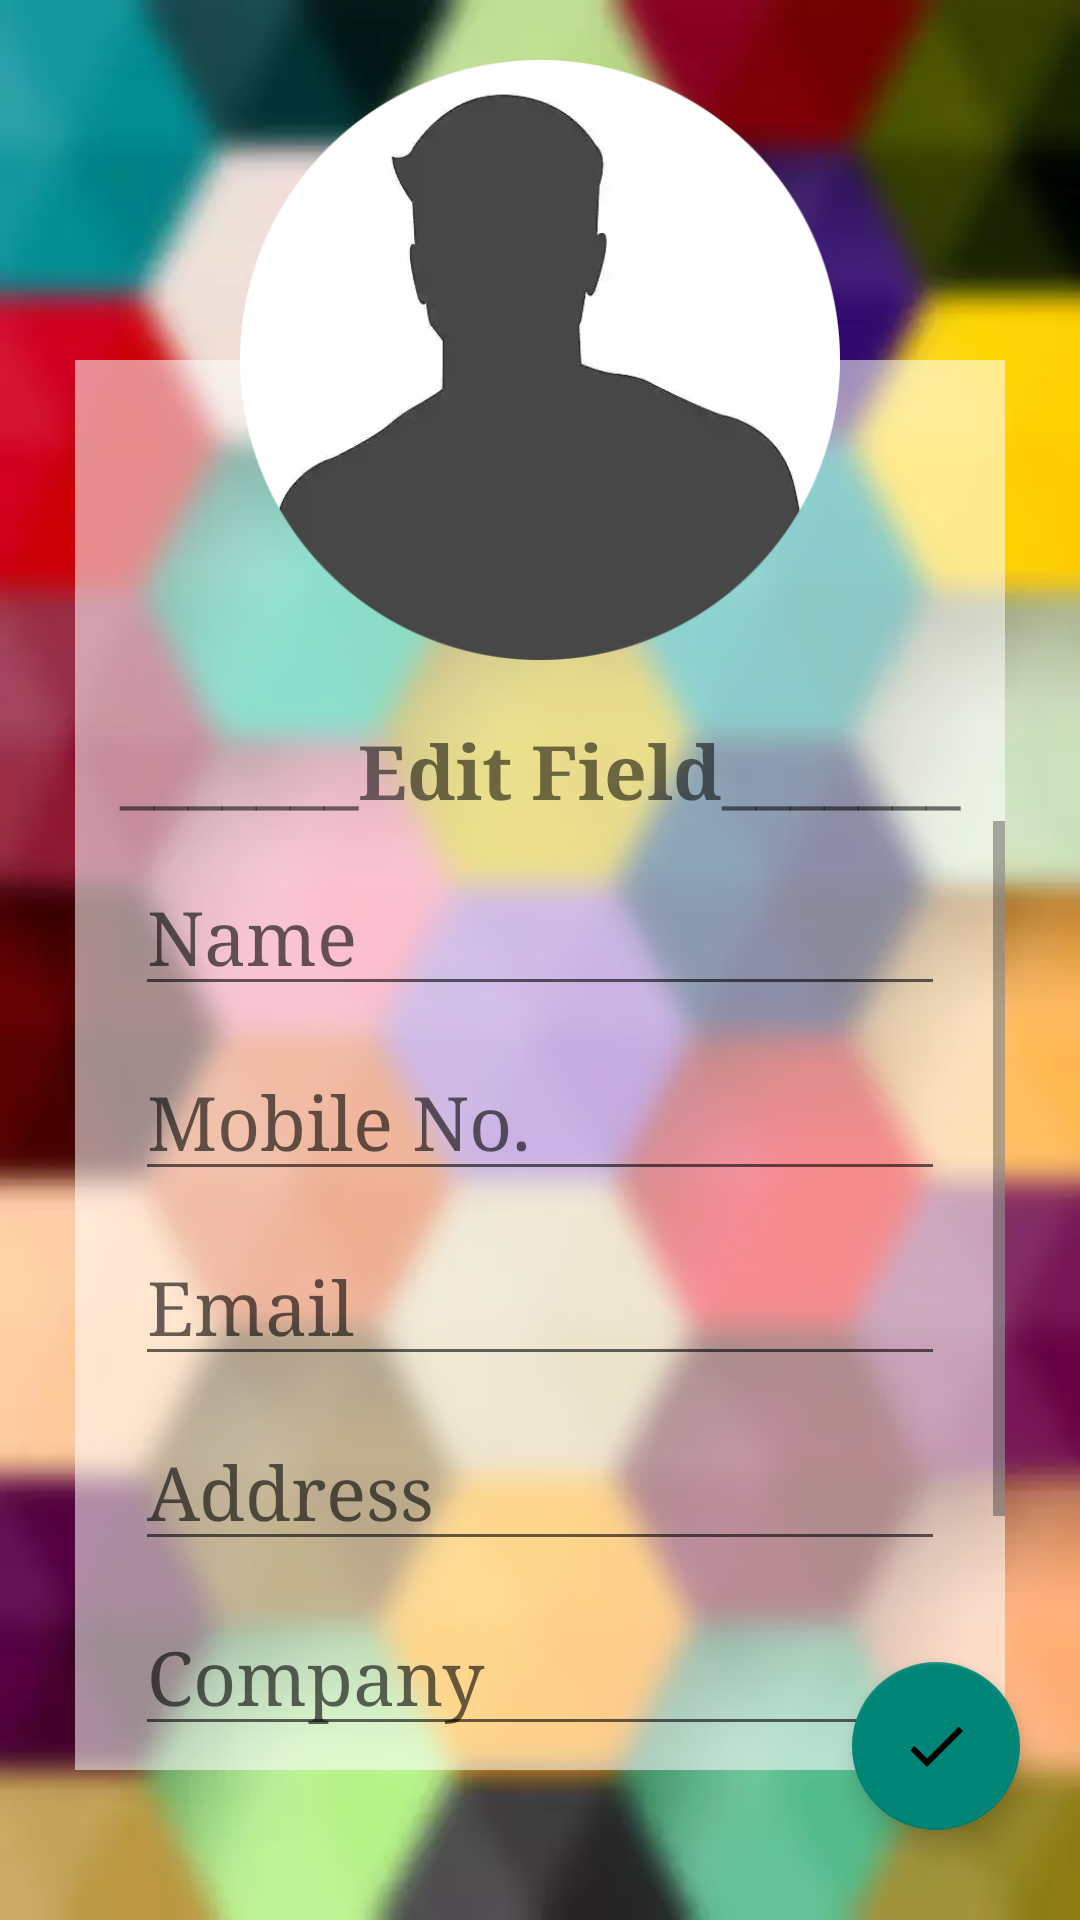

Named icons in this screenshot (1080 x 1920) and their centers, [x,y]:
done: [936,1746]
